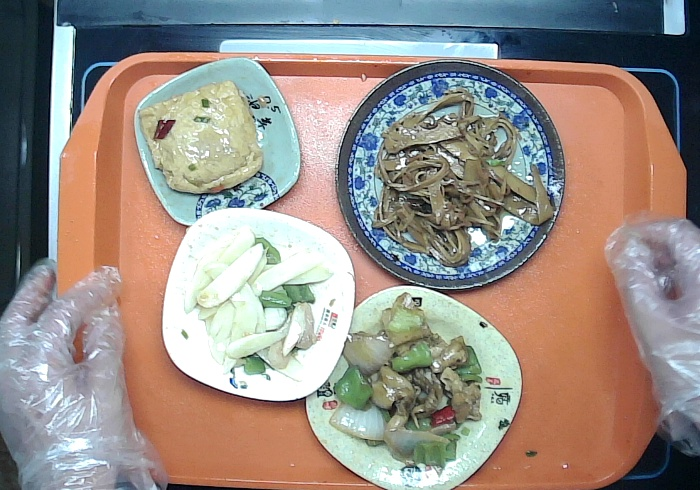NLDX-Bai_Se_Xiao_Fang_Die: (160, 204, 361, 407)
NLDX-Fu_Zi_Fang_Die: (302, 282, 529, 490)
NLDX-Qing_Hua_Xiao_Fang_Die: (127, 54, 308, 228)
NLDX-Qing_Hua_Yuan_Die: (331, 53, 576, 302)
